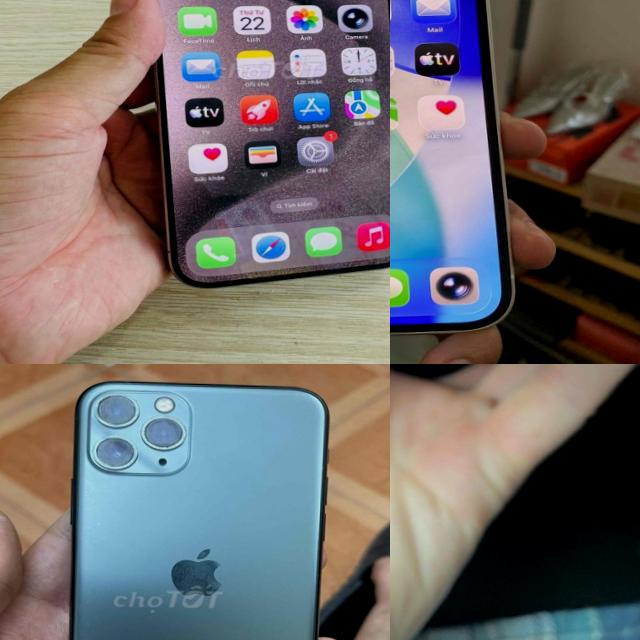gen_11: (45, 370, 348, 640)
gen_14: (390, 0, 523, 346)
gen_15: (118, 0, 390, 302)
